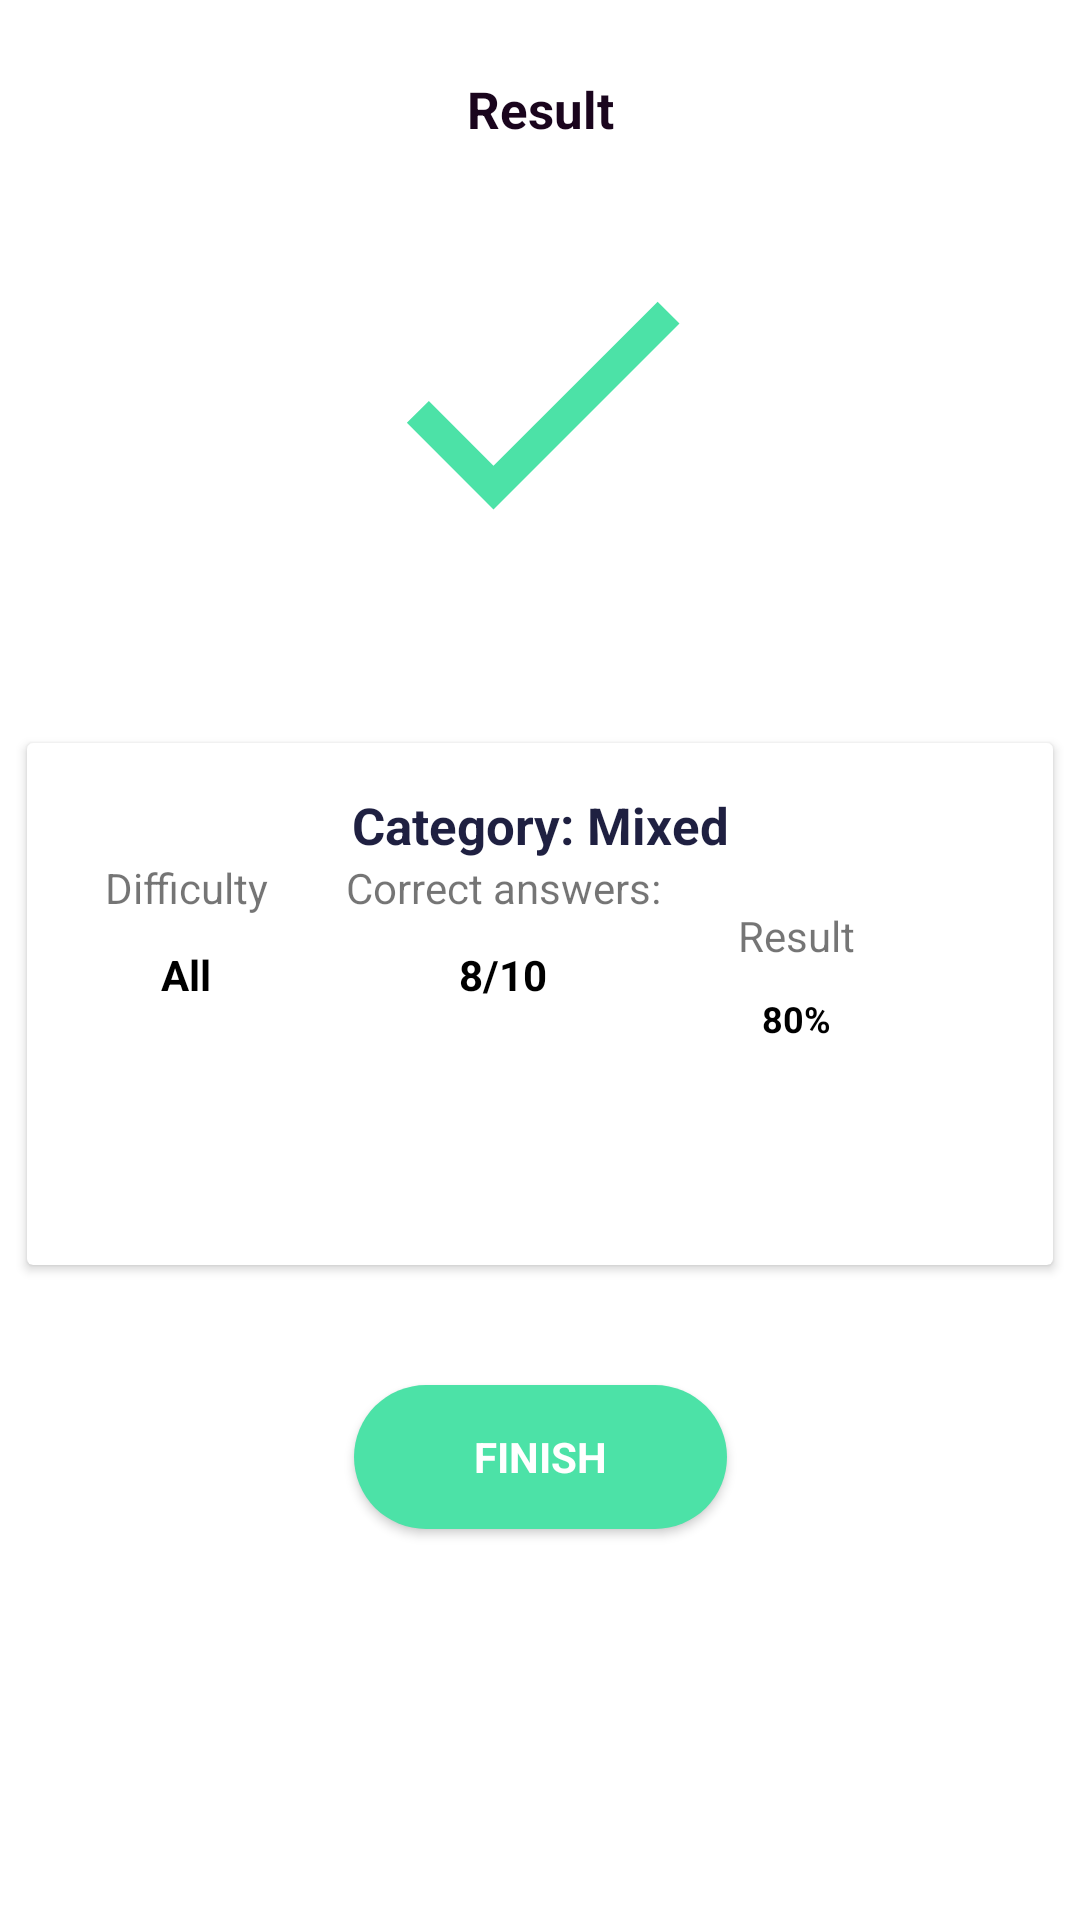

Icons on this 1080w x 1920h Android screen, each with the point to tap as (x=x, y=y):
check: (x=543, y=406)
